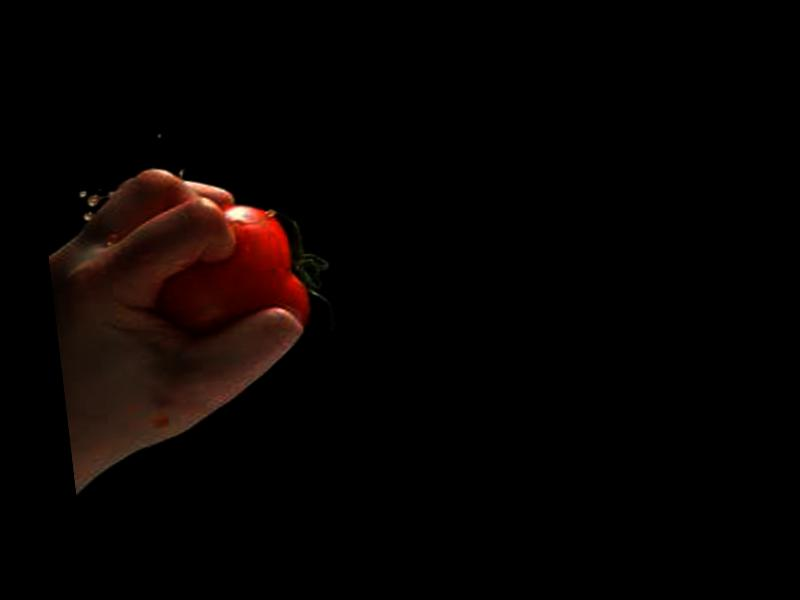Tomato: (146, 198, 313, 344)
